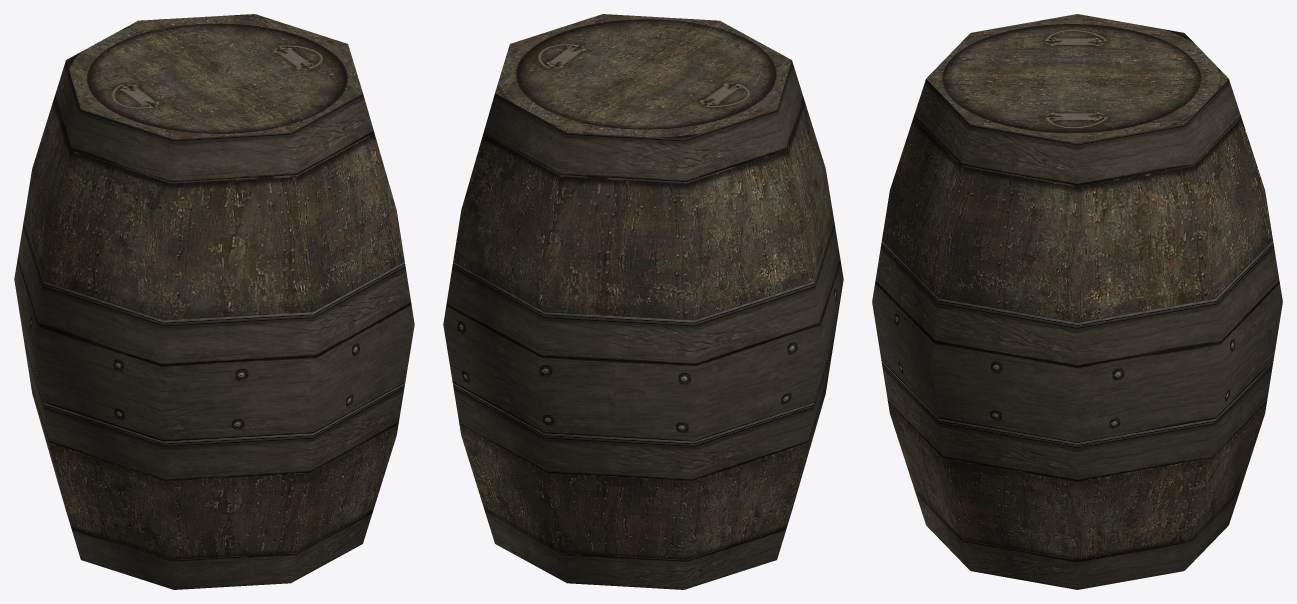
Rendered from Barrel.fbx.
3 renders of one model, left to right at view 1: azimuth 30°, elevation 25°; view 2: azimuth 150°, elevation 25°; view 3: azimuth 270°, elevation 25°, orthographic.
Parts seen in each view (by area): view 1: Barrel; view 2: Barrel; view 3: Barrel.
Part boxes in pixels (box(x1,y1,x2,y2)): Barrel: box(14, 14, 414, 589); Barrel: box(443, 14, 843, 589); Barrel: box(872, 14, 1282, 589).
Bounding box in the file's own units: 100 × 120 × 100.
Materials: 2 (2 with a texture image).
